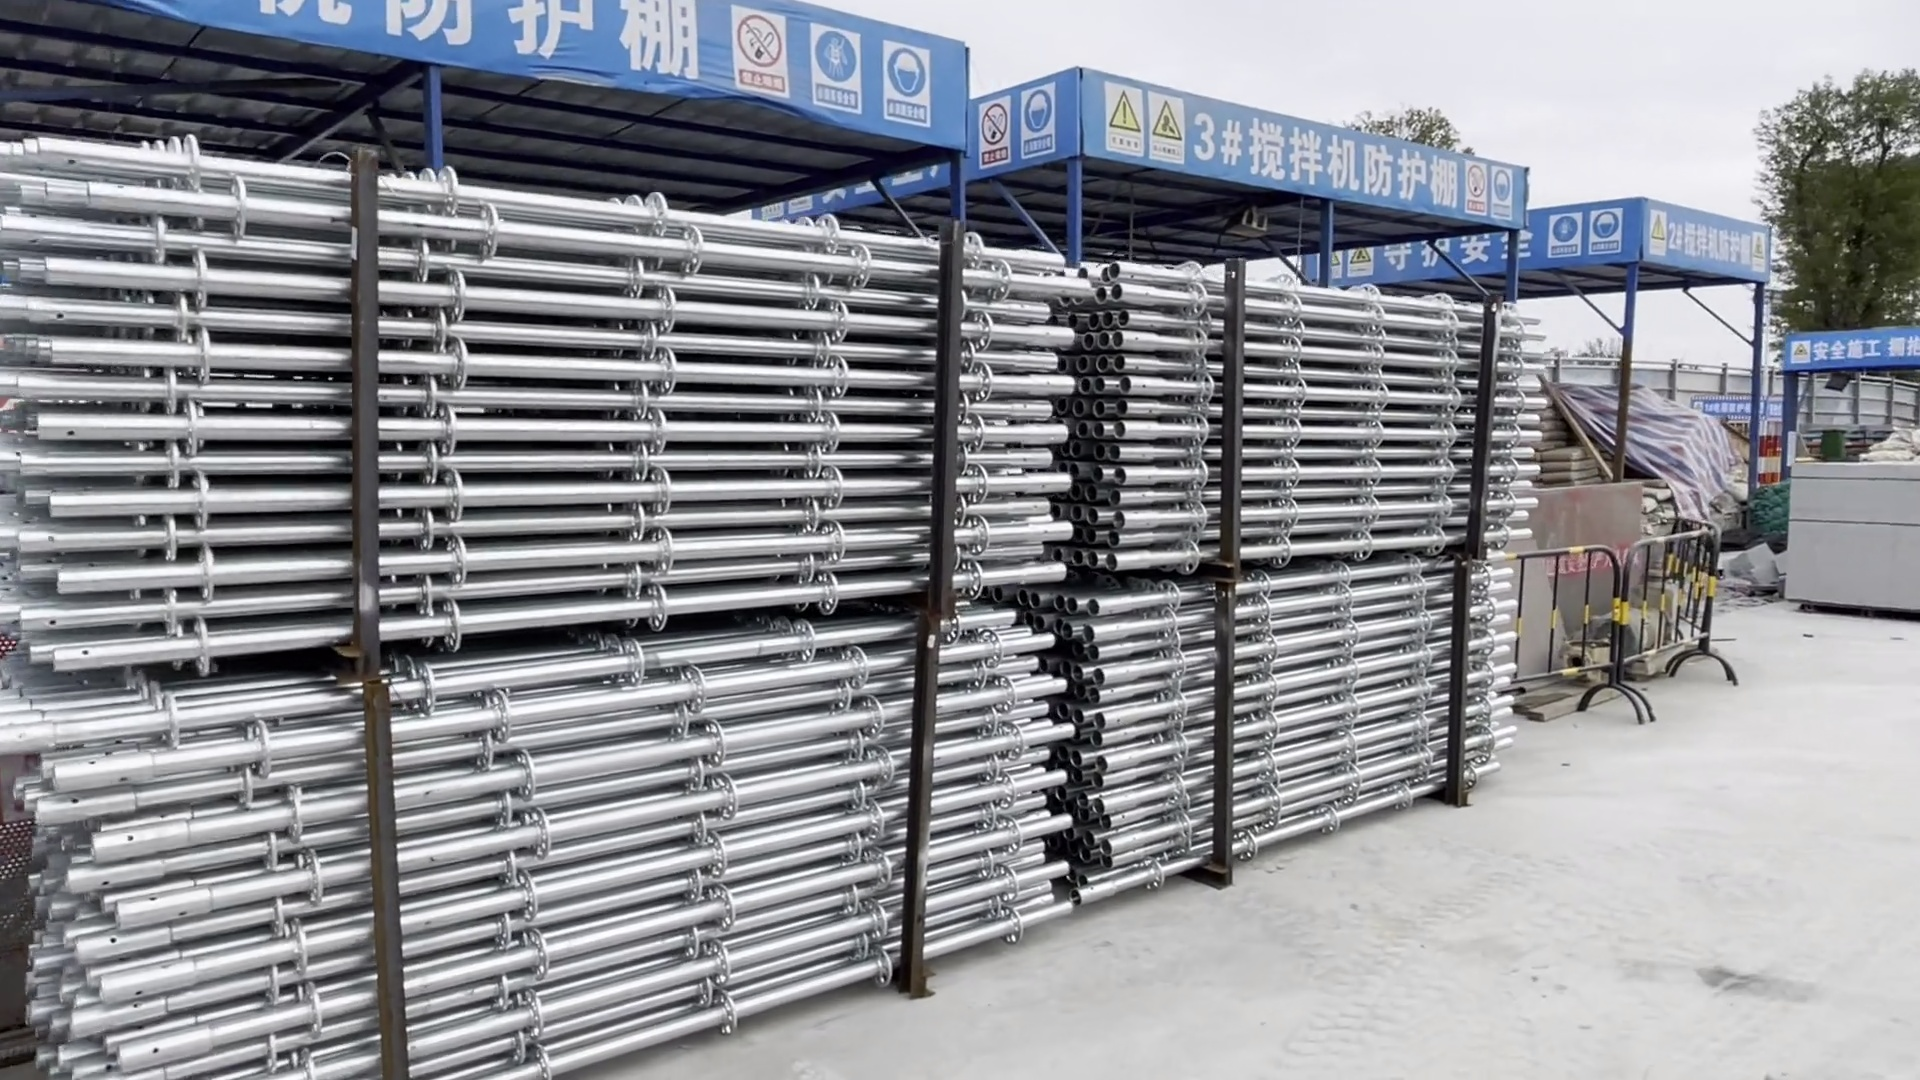brick: (1774, 454, 1920, 622)
scaffold: (4, 113, 1542, 642), (28, 555, 1505, 1080)
slogan: (717, 1, 945, 145), (1305, 194, 1636, 291), (971, 84, 1055, 170), (1779, 327, 1920, 375)
